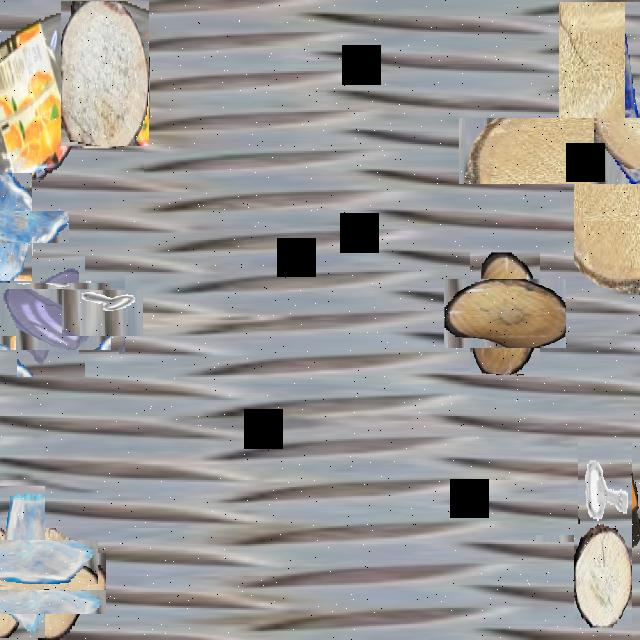glass: (559, 2, 640, 165), (4, 269, 98, 364), (0, 512, 71, 611), (0, 192, 50, 262)
metal: (578, 441, 634, 540), (70, 281, 134, 345), (607, 189, 640, 244)
plastic: (0, 2, 144, 180), (584, 486, 640, 590)
wood: (516, 59, 640, 242), (61, 2, 149, 148), (457, 265, 553, 361), (8, 540, 94, 626), (574, 524, 632, 628)
